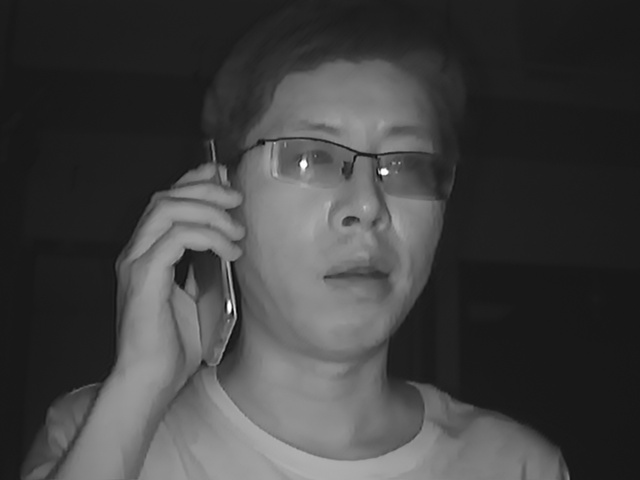hand: (117, 163, 243, 372)
